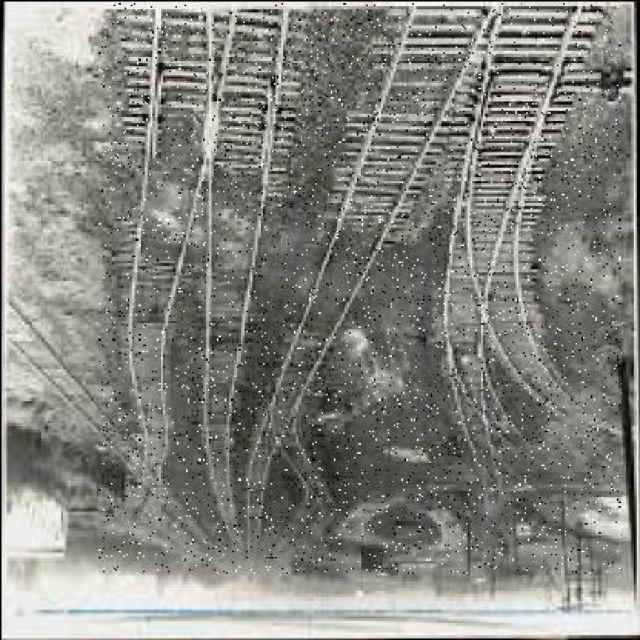rail: (97, 2, 620, 572)
